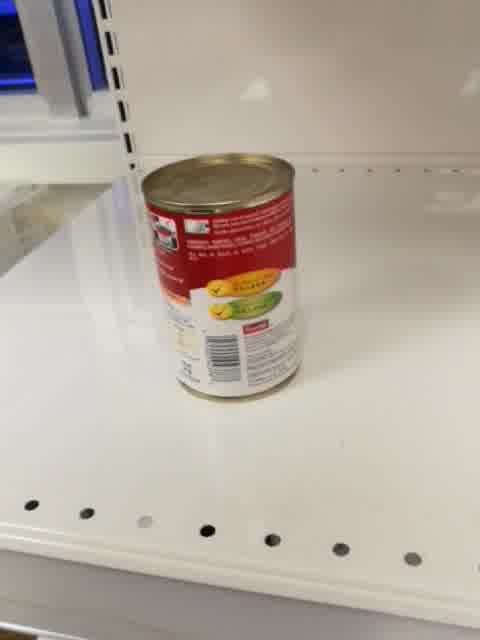tomatosoup: (141, 151, 306, 405)
